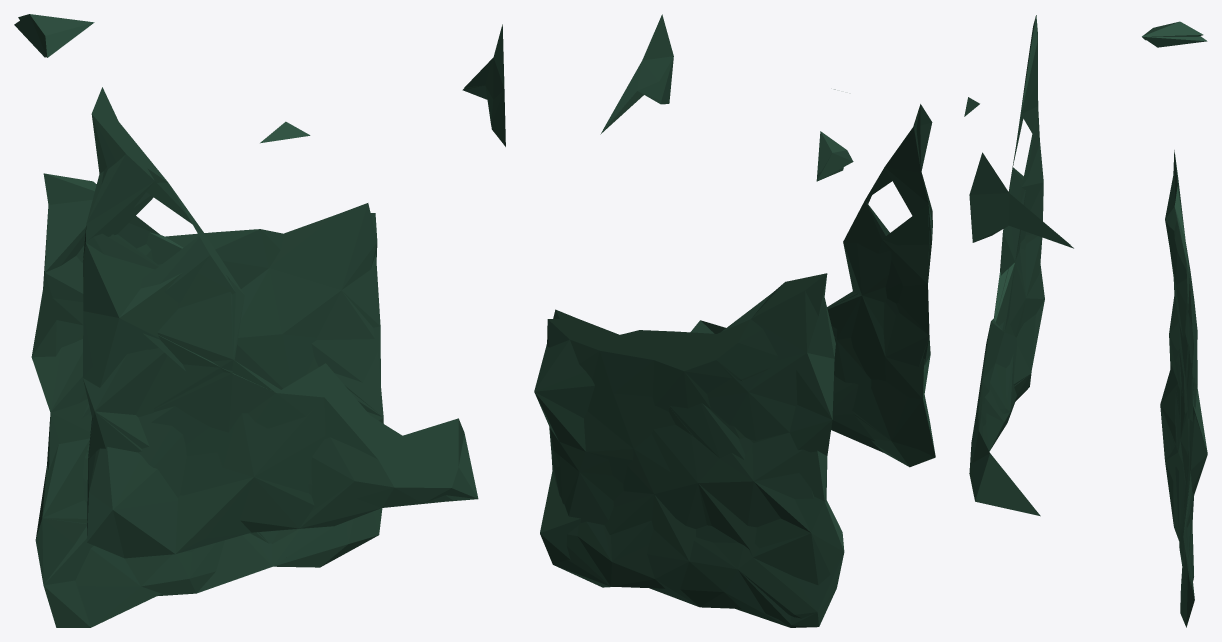
The model's file is Melita3.obj.
3 renders of one model, left to right at view 1: azimuth 30°, elevation 25°; view 2: azimuth 150°, elevation 25°; view 3: azimuth 270°, elevation 25°, orthographic. The views are drawn at different scales.
Bounding box in the file's own units: 0.1242 × 0.1847 × 0.0841.
Materials: 1 (1 with a texture image).
